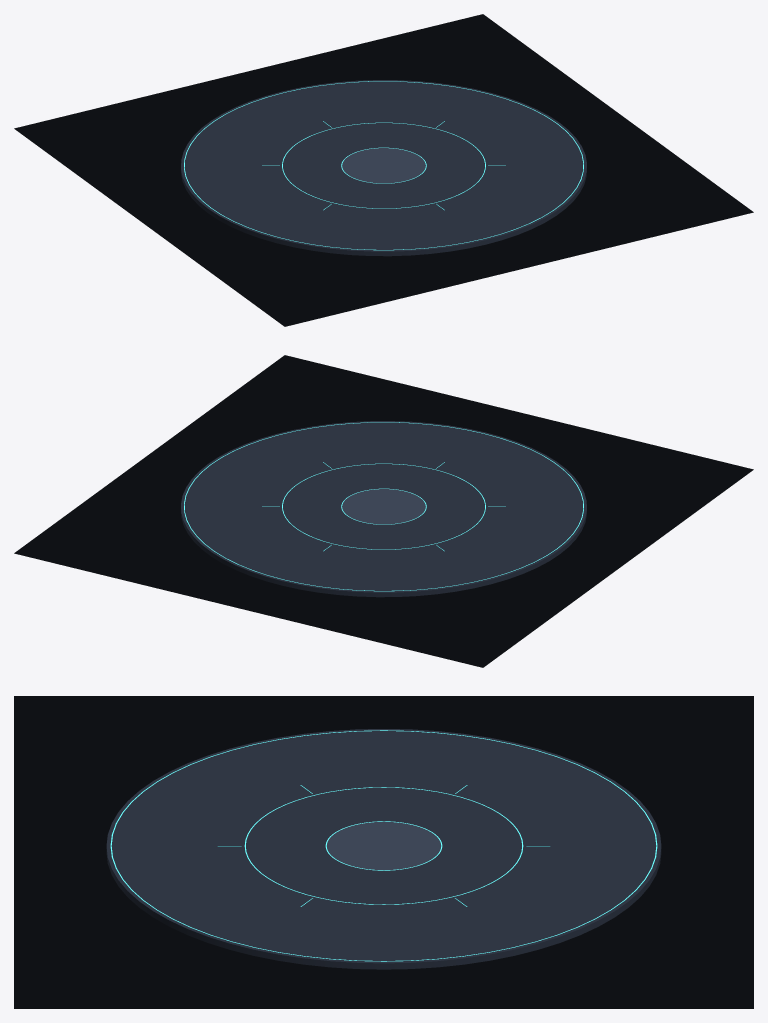
The picture shows the model from 3 angles, top to bottom: view 1: azimuth 30°, elevation 25°; view 2: azimuth 150°, elevation 25°; view 3: azimuth 270°, elevation 25°; orthographic projection. The views are drawn at different scales.
Parts seen in each view (by area): view 1: nexo_floor.lod1; view 2: nexo_floor.lod1; view 3: nexo_floor.lod1.
Part boxes in pixels (<box>): nexo_floor.lod1: <box>14,14,753,326</box>; nexo_floor.lod1: <box>14,355,753,667</box>; nexo_floor.lod1: <box>14,696,753,1008</box>.
Bounding box in the file's own units: 64 × 0.6328 × 64.
